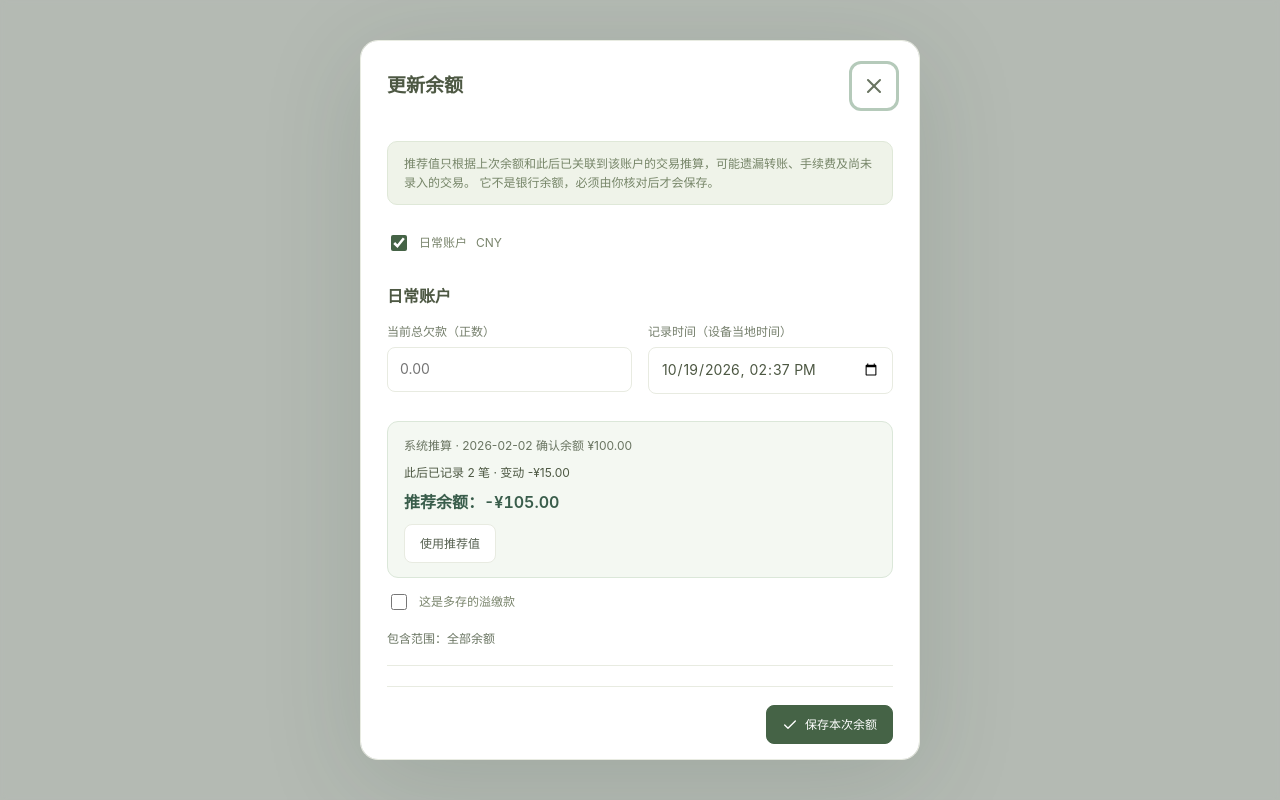
Test: preserves credit CNY signed estimate -105.00 on explicit use
The image size is (1280, 800).
Check: the field labelled "当前总欠款（正数）" is empty, box [387, 347, 632, 392]
Click the button "使用推荐值": (450, 543) [404, 524, 496, 563]
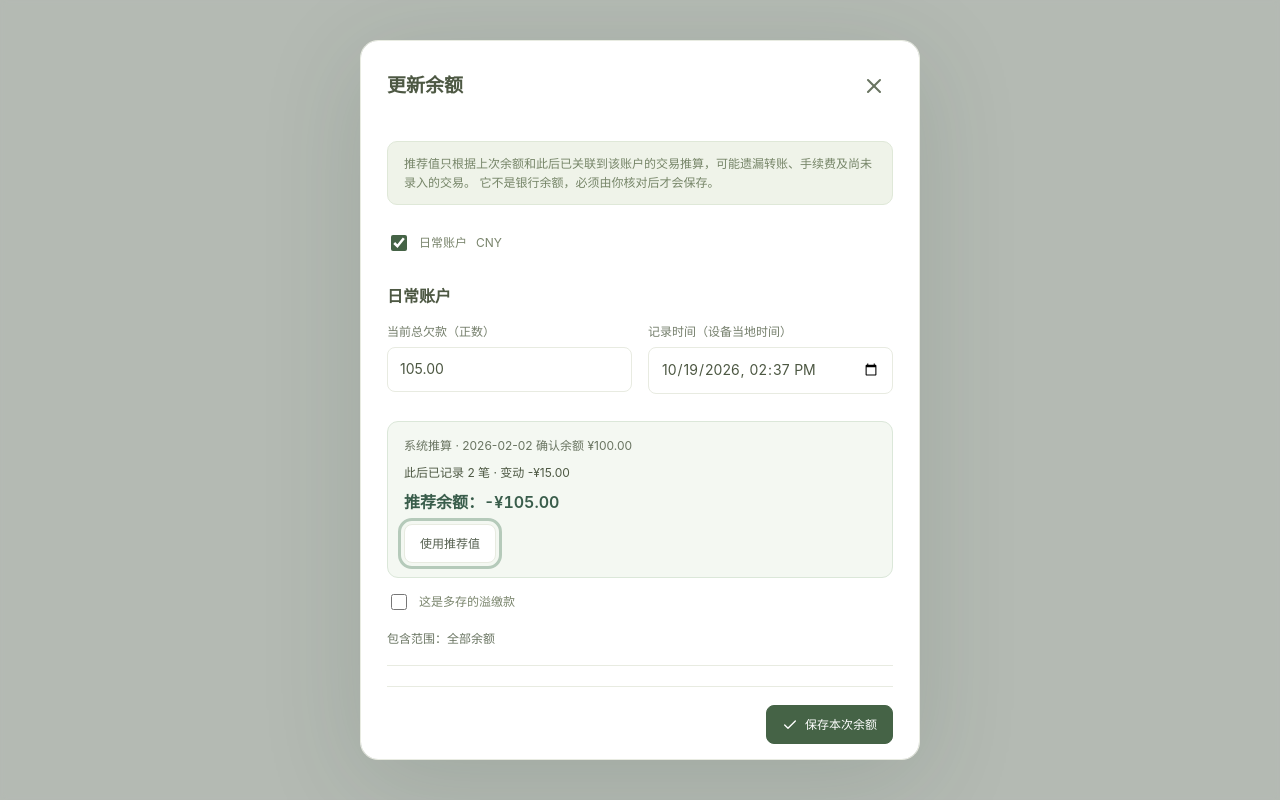
Check: the checkbox labelled "这是多存的溢缴款" is not checked, box [391, 594, 407, 610]
Check: the field labelled "当前总欠款（正数）" holds "105.00", box [387, 347, 632, 392]
